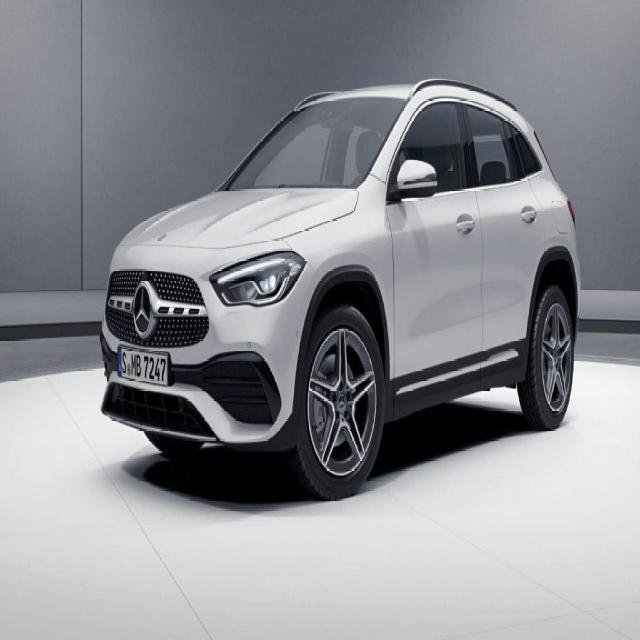car: (105, 78, 573, 471)
